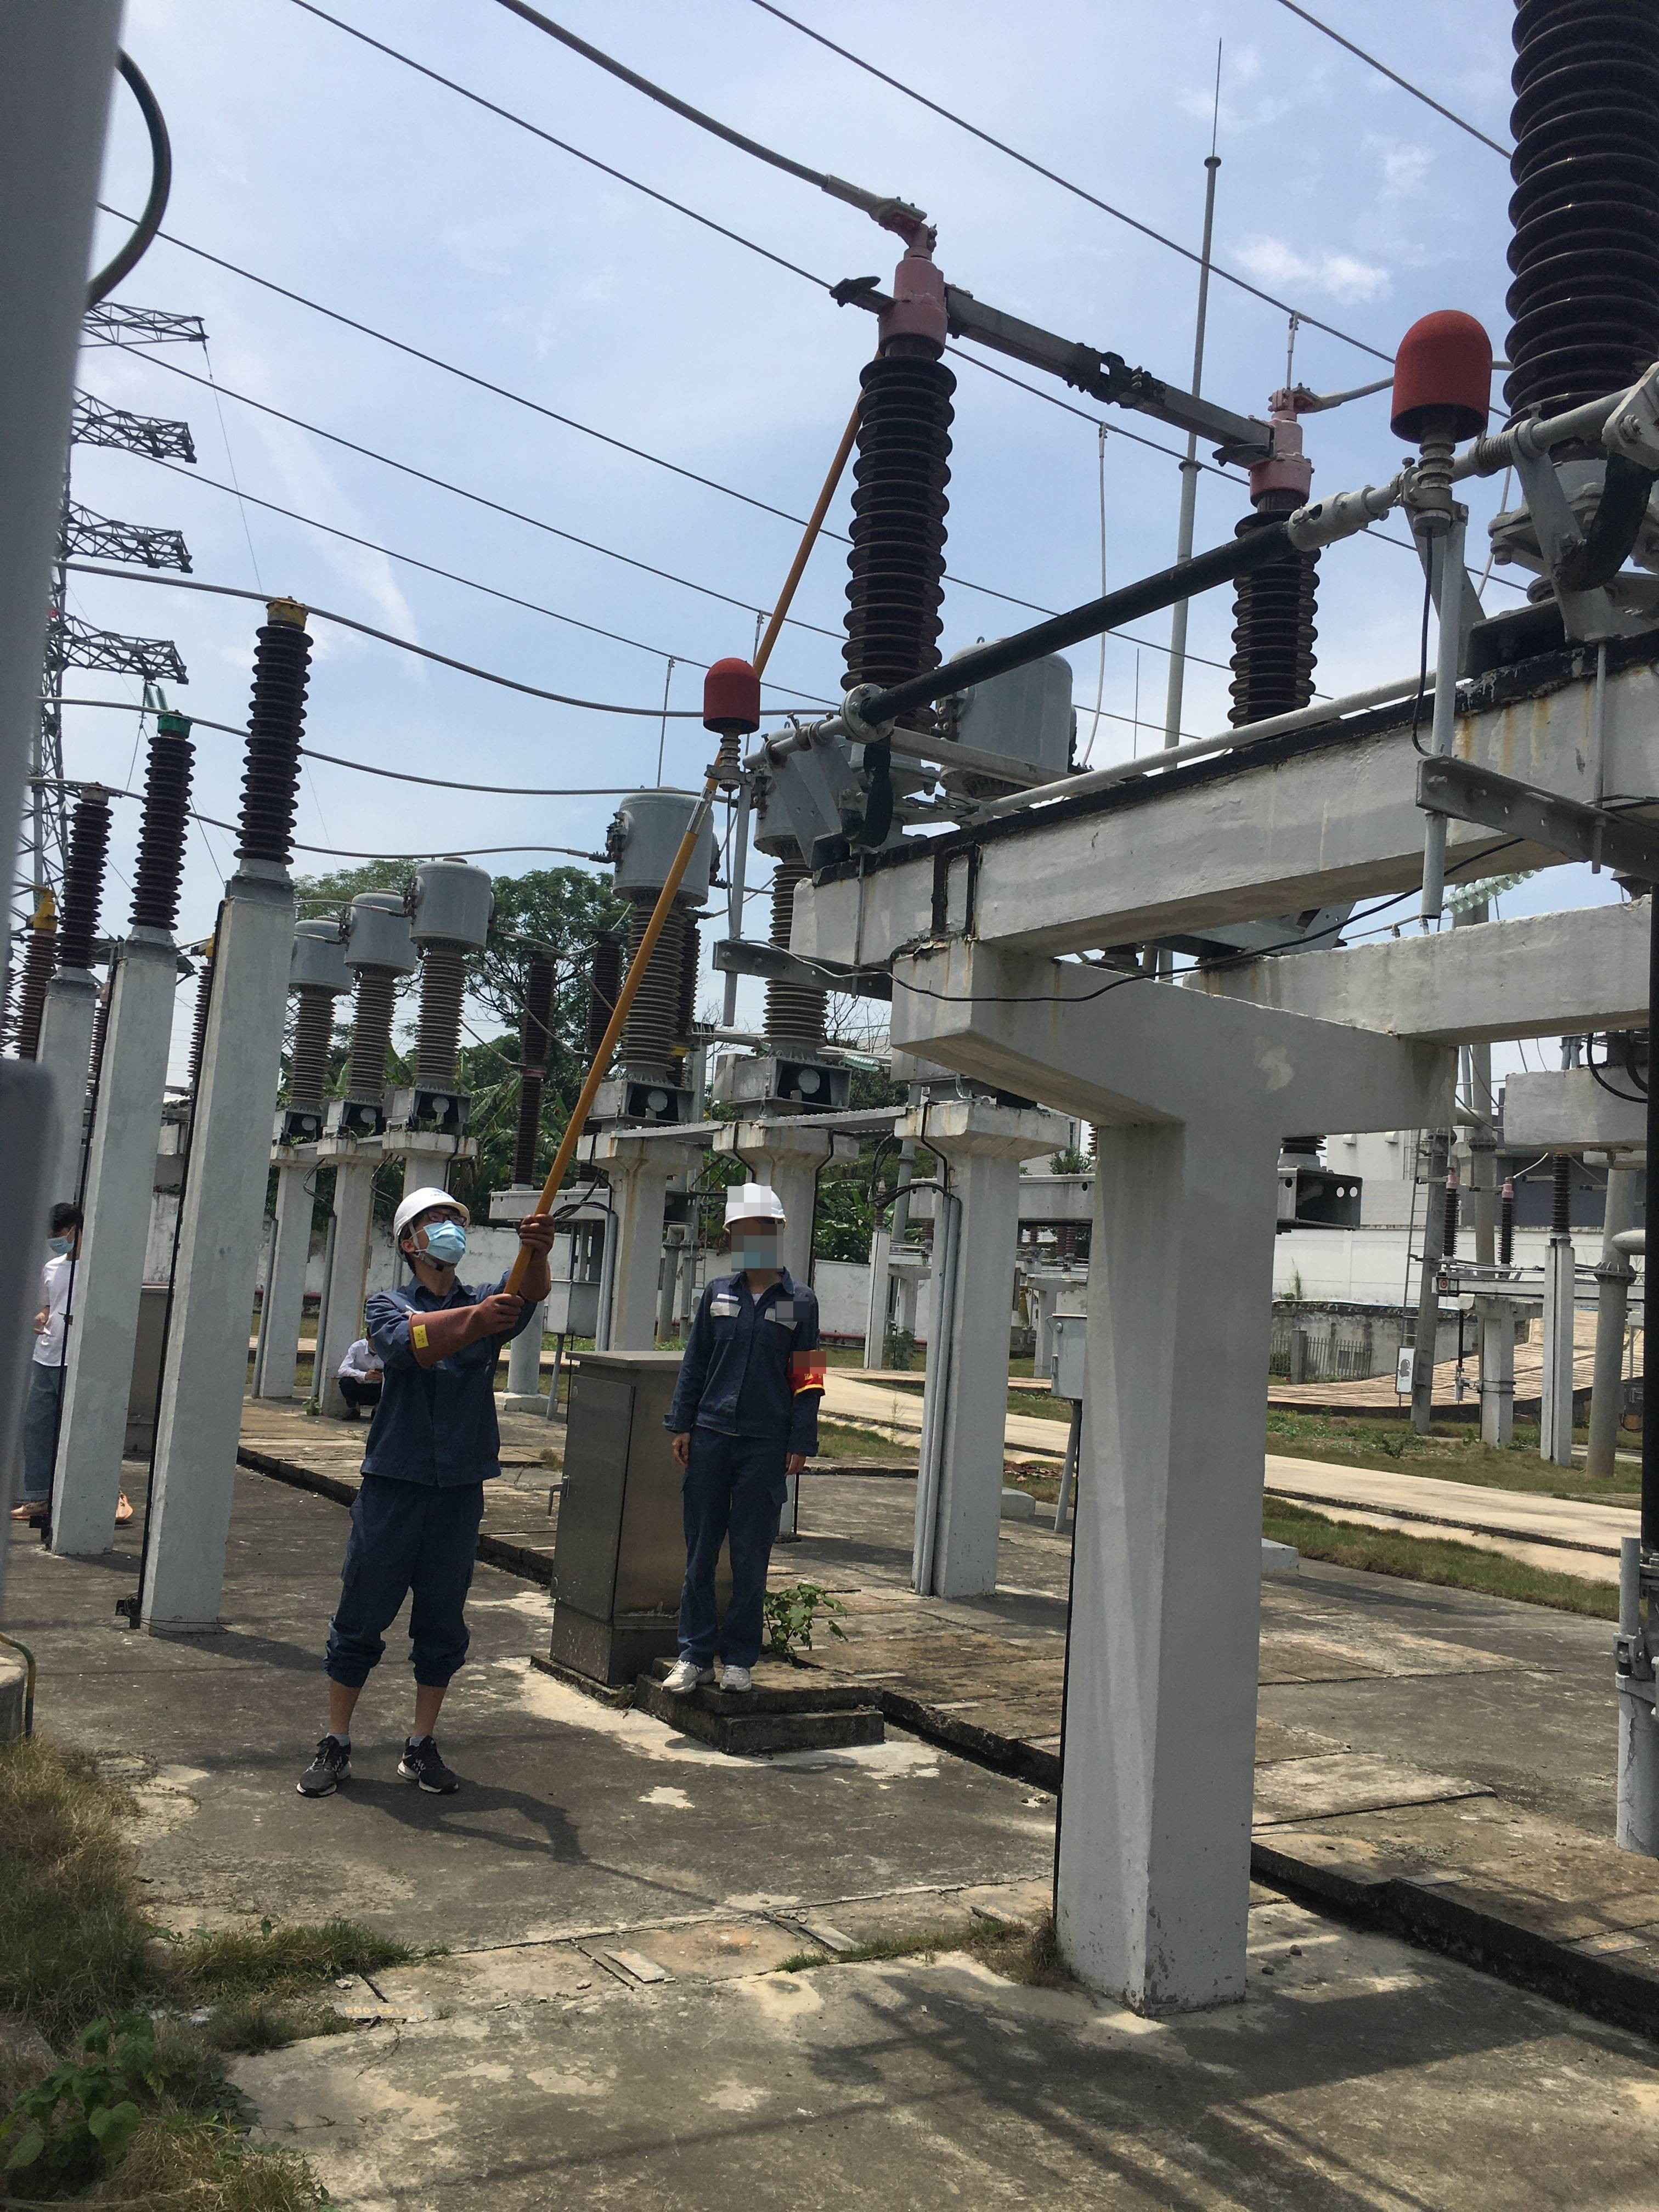downsuit: (324, 1493, 486, 1688), (671, 1456, 800, 1669)
upsuit: (342, 1278, 507, 1489), (666, 1264, 833, 1447)
wrongbottom: (321, 1639, 383, 1742), (404, 1644, 462, 1743)
